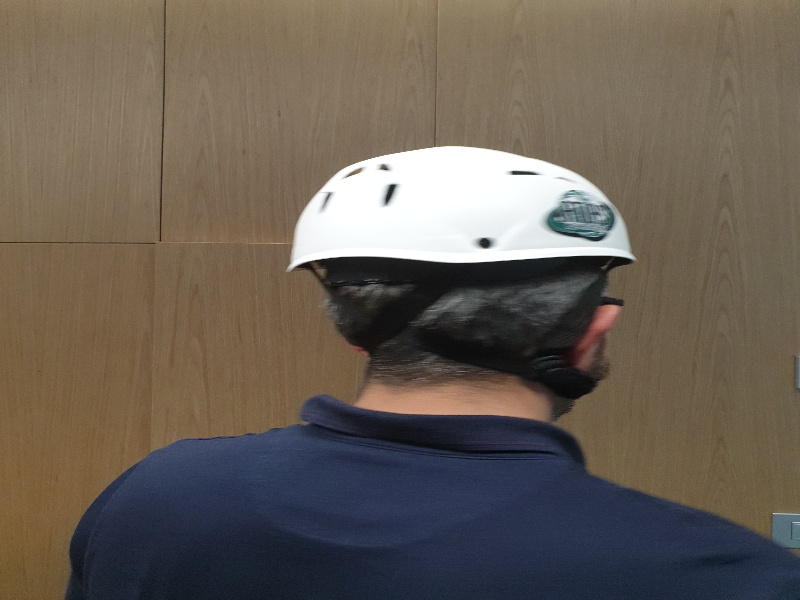Baret: (286, 144, 631, 273)
